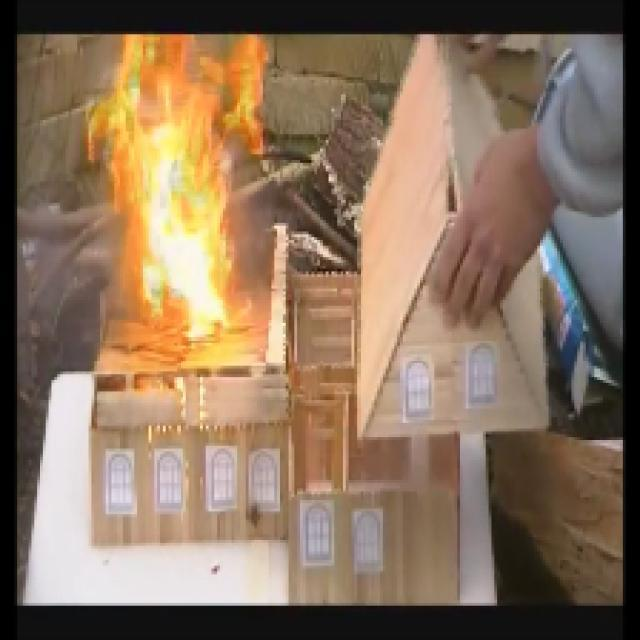Fire: (106, 76, 268, 360)
